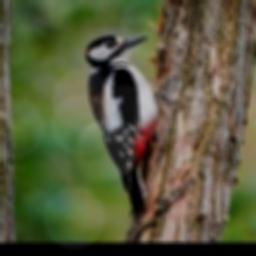Woodpecker: (85, 36, 158, 218)
